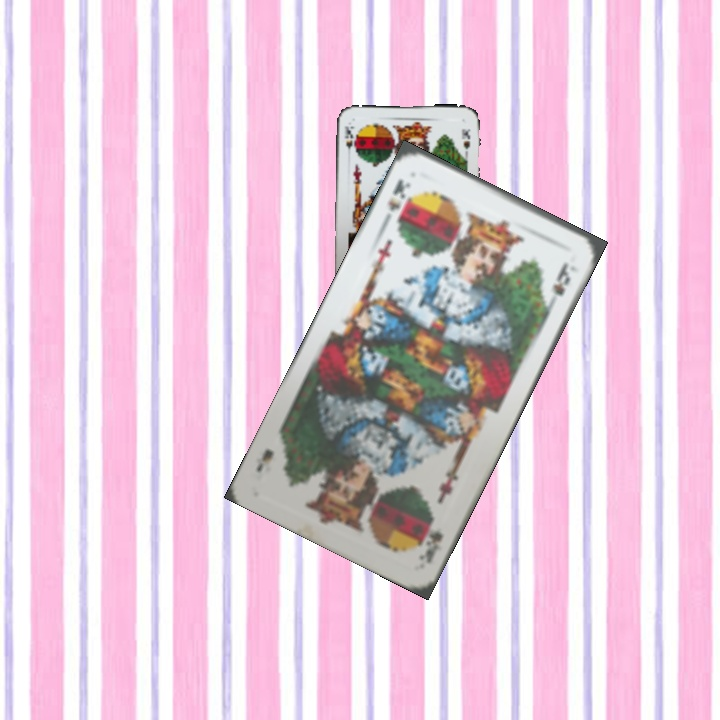SK: (379, 175, 414, 226), (414, 513, 446, 567), (340, 122, 357, 160)
